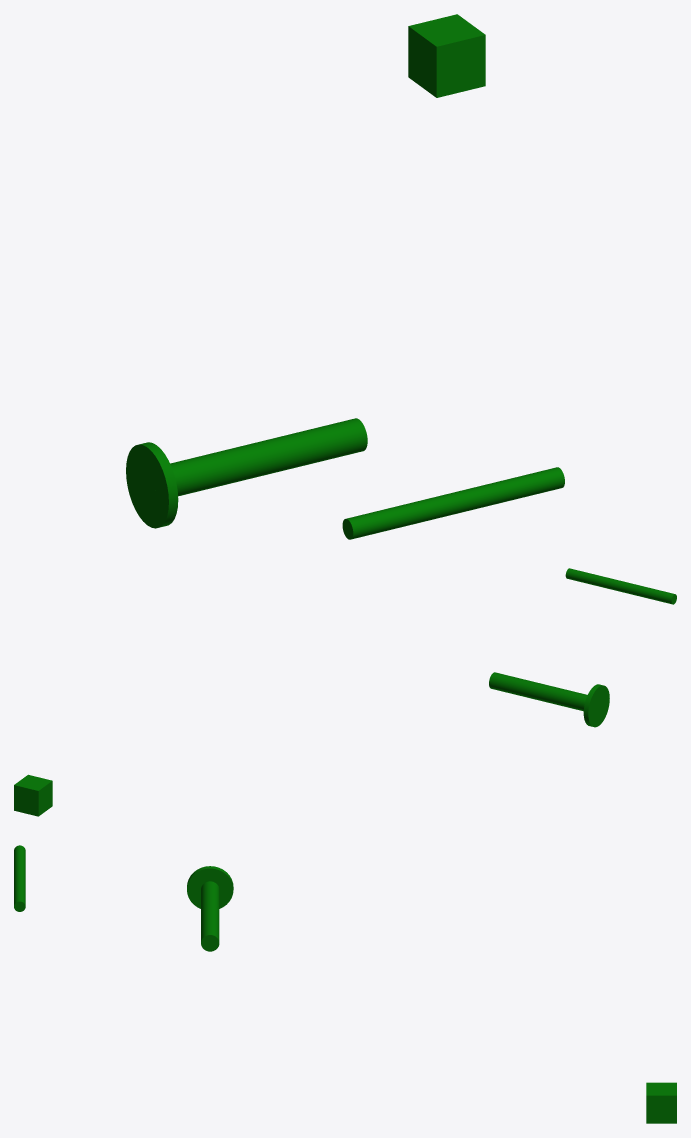
Rendered from Image-1711348185423-2281130264720_50-XX50.fbx.
3 views of the same model, one above another, from view 1: azimuth 30°, elevation 25°; view 2: azimuth 150°, elevation 25°; view 3: azimuth 270°, elevation 25° (orthographic). The views are drawn at different scales.
Parts seen in each view (by area): view 1: /50-XX50/N5, BOX 1 of SUBEQUIPMENT /50-2987WS, /50-XX50/N6; view 2: /50-XX50/N5, BOX 1 of SUBEQUIPMENT /50-2987WS, /50-XX50/N6; view 3: /50-XX50/N5, BOX 1 of SUBEQUIPMENT /50-2987WS, /50-XX50/N6.
Part boxes in pixels (left/top/right/bottom): /50-XX50/N5: left=126, top=418, right=367, bottom=528; BOX 1 of SUBEQUIPMENT /50-2987WS: left=408, top=14, right=485, bottom=97; /50-XX50/N6: left=342, top=467, right=564, bottom=539; /50-XX50/N5: left=489, top=672, right=609, bottom=727; BOX 1 of SUBEQUIPMENT /50-2987WS: left=14, top=774, right=52, bottom=816; /50-XX50/N6: left=565, top=568, right=676, bottom=604; /50-XX50/N5: left=187, top=866, right=233, bottom=951; BOX 1 of SUBEQUIPMENT /50-2987WS: left=646, top=1082, right=676, bottom=1123; /50-XX50/N6: left=14, top=845, right=25, bottom=911.
Bounding box in the file's own units: 1.51 × 2.16 × 0.319.
